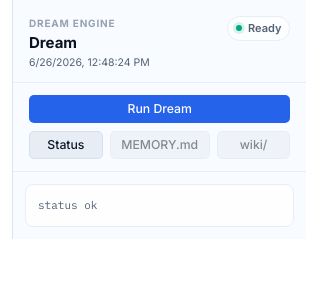
Test: DreamPanel › PR 41: renders a Copy details button for any error with a body
Expected: the text "status ok" is shown, [25, 184, 294, 227]
Step 1. Click the button "Run Dream" → click(160, 108), box [29, 94, 290, 122]
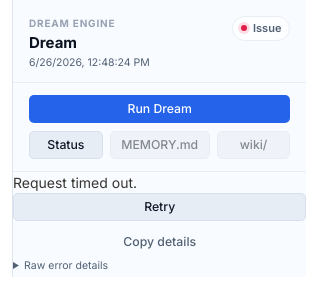
Result: the button with aria-label "Copy error details to clipboard" is shown at [13, 228, 306, 256]
